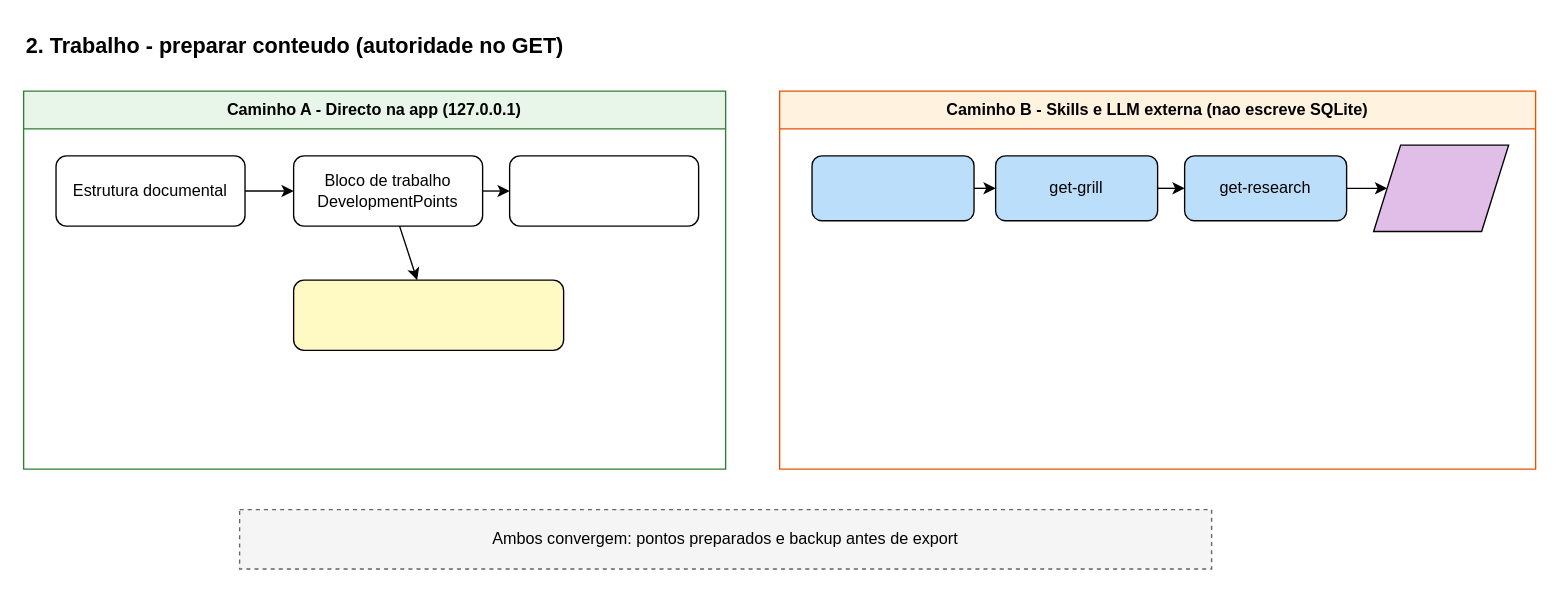
Image size: 1559x593. Some labels were removed from this diagram. Each missing label, with the centre of its shape:
"Estados draft para ready (aprovacao humana)" goes at pixel 428 314.
"get-orient (so leitura)" goes at pixel 892 188.
"GET-PACKAGE com propostas" goes at pixel 1440 188.
"Ligar KI, refs, premissas" goes at pixel 603 190.
